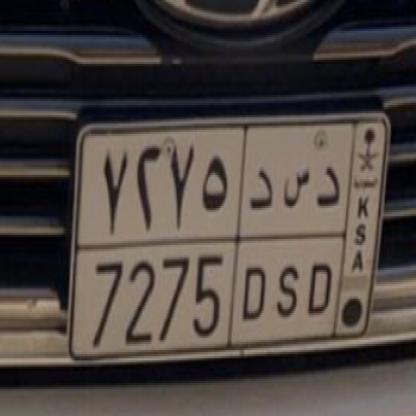english: (75, 231, 340, 342)
